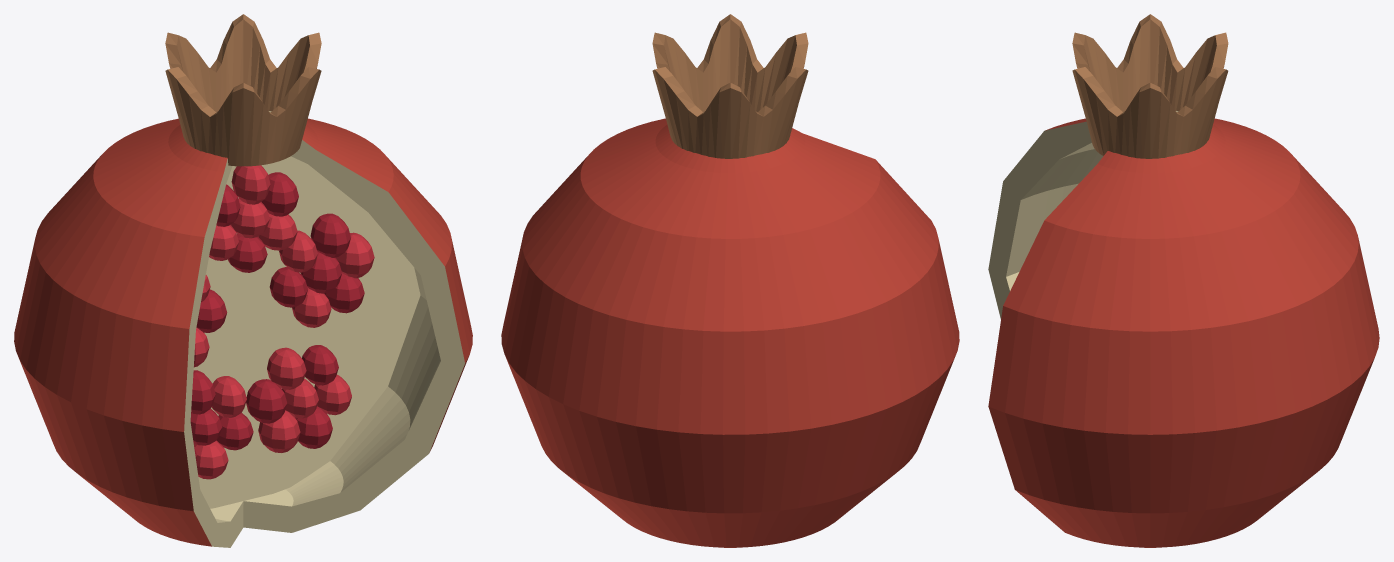
3 renders of one model, left to right at view 1: azimuth 30°, elevation 25°; view 2: azimuth 150°, elevation 25°; view 3: azimuth 270°, elevation 25°, orthographic.
Visible parts, largest first — view 1: WholeThreeQuarterRindAndPithWall, WholeInnerSpongyPlacentalBacking, WholeSixLobedDryCalyxCrown, WholeRepresentativeAril_5_4, WholeRepresentativeAril_2_3, WholeRepresentativeAril_5_3, WholeRepresentativeAril_3_3, WholeRepresentativeAril_5_5, WholeRepresentativeAril_3_2, WholeRepresentativeAril_2_5, WholeRepresentativeAril_4_2, WholeRepresentativeAril_2_2 (+18 smaller); view 2: WholeThreeQuarterRindAndPithWall, WholeSixLobedDryCalyxCrown; view 3: WholeThreeQuarterRindAndPithWall, WholeSixLobedDryCalyxCrown.
Part boxes in pixels (<box>): WholeThreeQuarterRindAndPithWall: <box>14,111,472,547</box>; WholeInnerSpongyPlacentalBacking: <box>193,156,420,508</box>; WholeSixLobedDryCalyxCrown: <box>165,14,321,166</box>; WholeRepresentativeAril_5_4: <box>246,379,287,423</box>; WholeRepresentativeAril_2_3: <box>310,213,350,257</box>; WholeRepresentativeAril_5_3: <box>267,347,306,389</box>; WholeRepresentativeAril_3_3: <box>231,165,270,204</box>; WholeRepresentativeAril_5_5: <box>258,410,300,452</box>; WholeRepresentativeAril_3_2: <box>261,172,298,216</box>; WholeRepresentativeAril_2_5: <box>269,267,307,307</box>; WholeRepresentativeAril_4_2: <box>211,376,246,417</box>; WholeRepresentativeAril_2_2: <box>335,232,374,278</box>; WholeThreeQuarterRindAndPithWall: <box>501,118,959,547</box>; WholeSixLobedDryCalyxCrown: <box>652,14,808,158</box>; WholeThreeQuarterRindAndPithWall: <box>988,111,1379,547</box>; WholeSixLobedDryCalyxCrown: <box>1072,14,1228,158</box>.
Size of the model in its own units: 0.11 by 0.126 by 0.0939.
